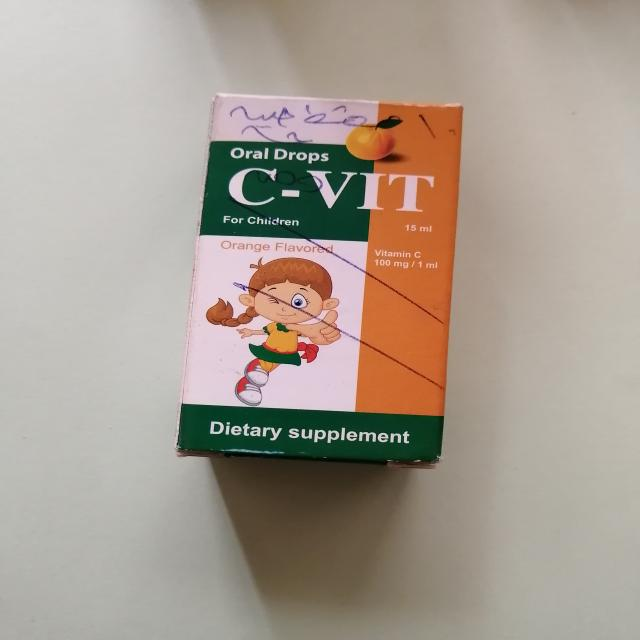C-VIT: (168, 91, 491, 483)
